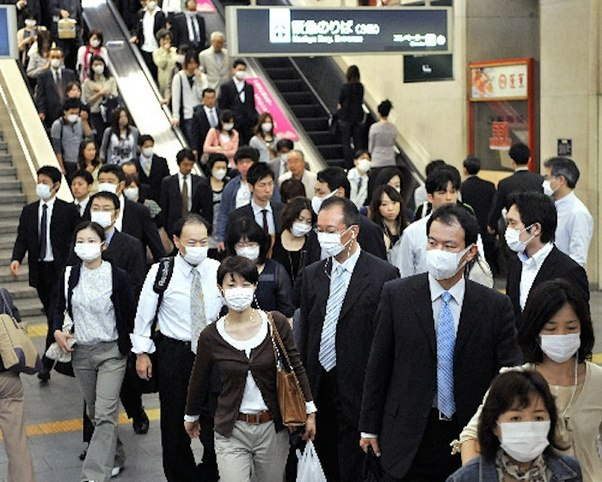mask: (500, 423, 550, 462), (542, 333, 580, 365), (425, 249, 460, 280), (317, 232, 351, 256), (224, 288, 254, 310), (504, 228, 530, 252), (184, 247, 209, 265), (76, 244, 102, 261), (91, 210, 115, 228), (291, 223, 313, 236), (36, 185, 53, 198)
